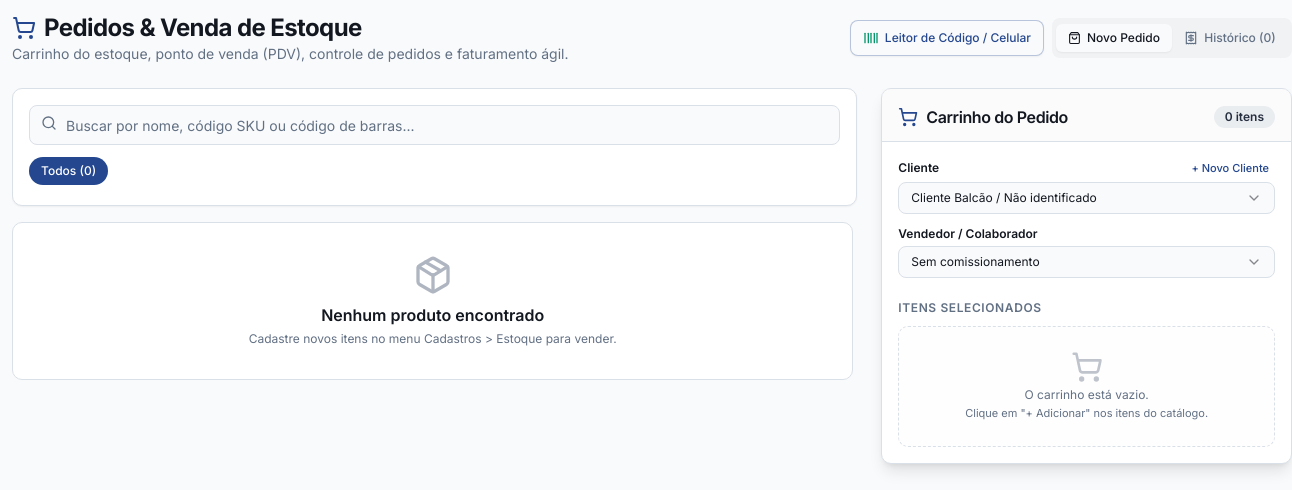
Test: Orders / PDV Component › deve alternar para a aba de histórico e exibir os pedidos passados
This screenshot has width=1292, height=490.
Click the tab "Histórico (0)". click: [1230, 38]
box: [1172,24,1288,52]
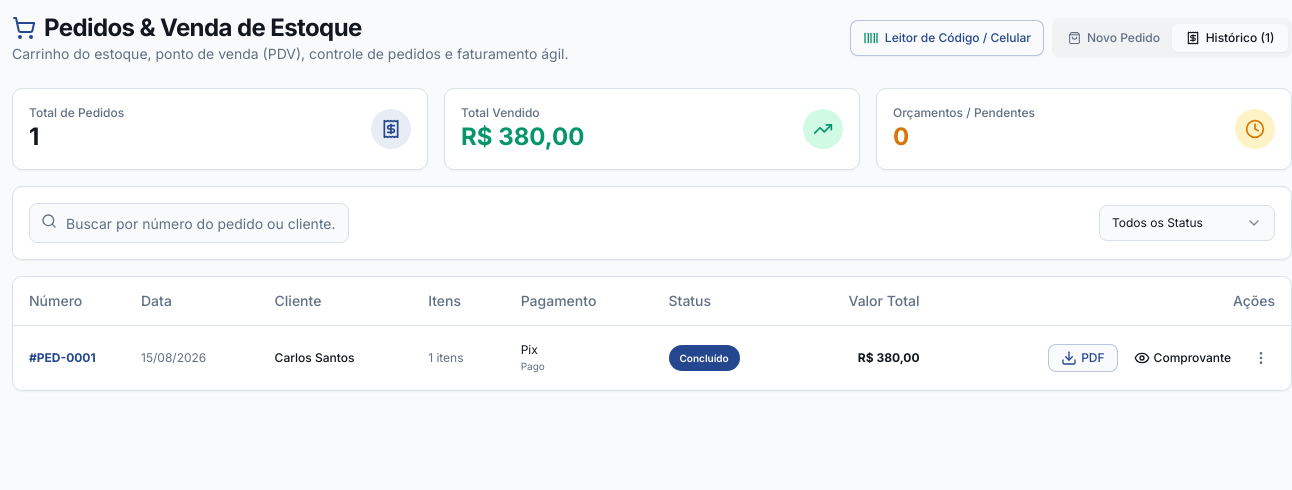
Expected: the text "#PED-0001" is shown, [13,325,125,390]
Expected: the text "Carlos Santos" is shown, [259,325,412,390]
